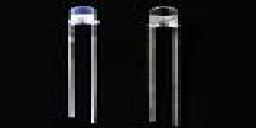LED: (145, 4, 186, 128), (63, 6, 102, 125)
